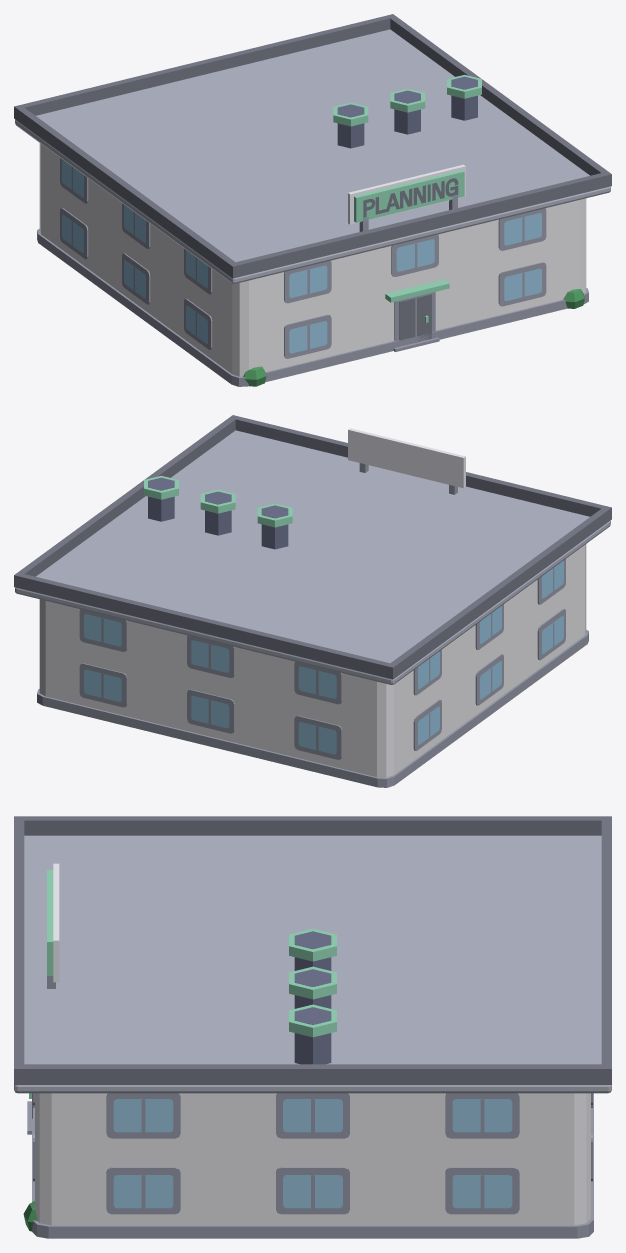
Rendered from planning-office-2x2-2f.glb.
3 views of the same model, one above another, from view 1: azimuth 30°, elevation 25°; view 2: azimuth 150°, elevation 25°; view 3: azimuth 270°, elevation 25° (orthographic). The views are drawn at different scales.
Parts seen in each view (by area): view 1: planning-office-2x2-2f; view 2: planning-office-2x2-2f; view 3: planning-office-2x2-2f.
Boxes of the visible parts, left/top/right/bottom form: planning-office-2x2-2f: left=14, top=14, right=611, bottom=386; planning-office-2x2-2f: left=14, top=415, right=611, bottom=787; planning-office-2x2-2f: left=14, top=816, right=611, bottom=1238.
Bounding box in the file's own units: 2 × 0.804 × 2.
Materials: 1 (1 with a texture image).
